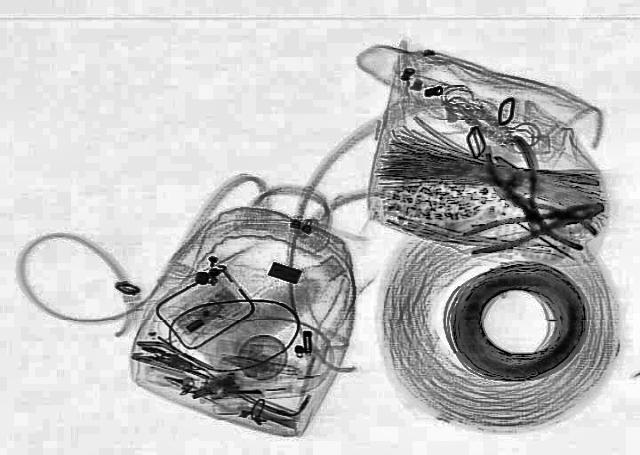Pliers: (456, 193, 612, 257), (472, 136, 564, 230)
